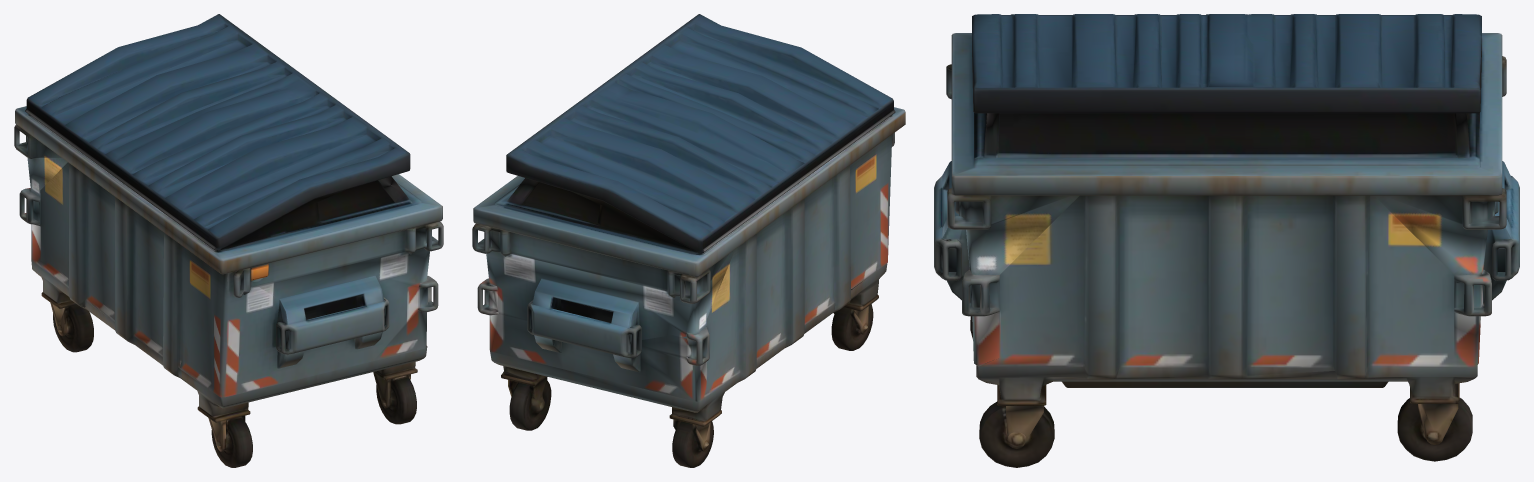
The model's file is Industrial__large_dumpster_city_realistic_style_736a08e1_v4.cluster.glb.
The picture shows the model from 3 angles, left to right: view 1: azimuth 30°, elevation 25°; view 2: azimuth 150°, elevation 25°; view 3: azimuth 270°, elevation 25°; orthographic projection. The views are drawn at different scales.
Parts seen in each view (by area): view 1: mesh_input; view 2: mesh_input; view 3: mesh_input.
Boxes of the visible parts, x1,y1,x2,y2 form: mesh_input: [14, 14, 443, 467]; mesh_input: [472, 14, 905, 467]; mesh_input: [934, 14, 1519, 467].
Size of the model in its own units: 1.11 by 1.34 by 1.9.
Materials: 1 (1 with a texture image).
